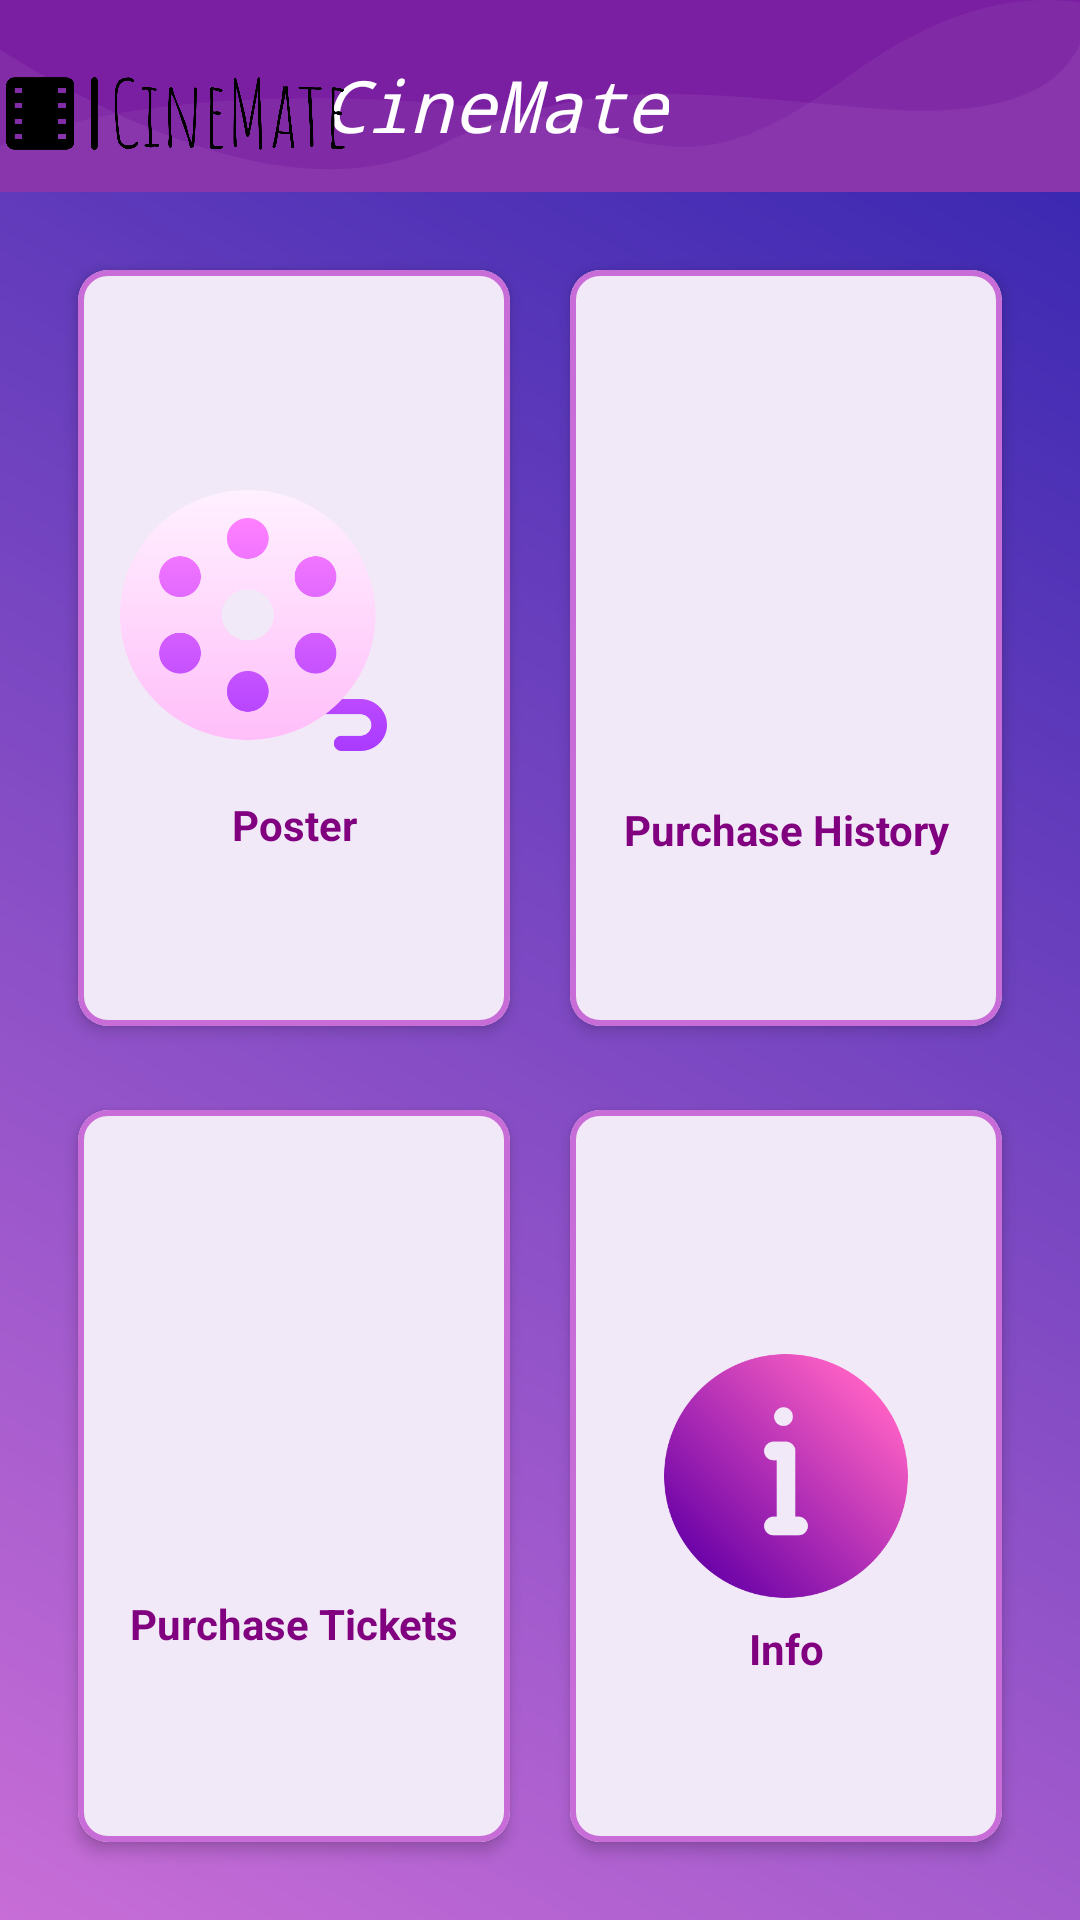

Named icons in this screenshot (1080*1920) and their centers, [x,y]:
film reel: [253,620]
